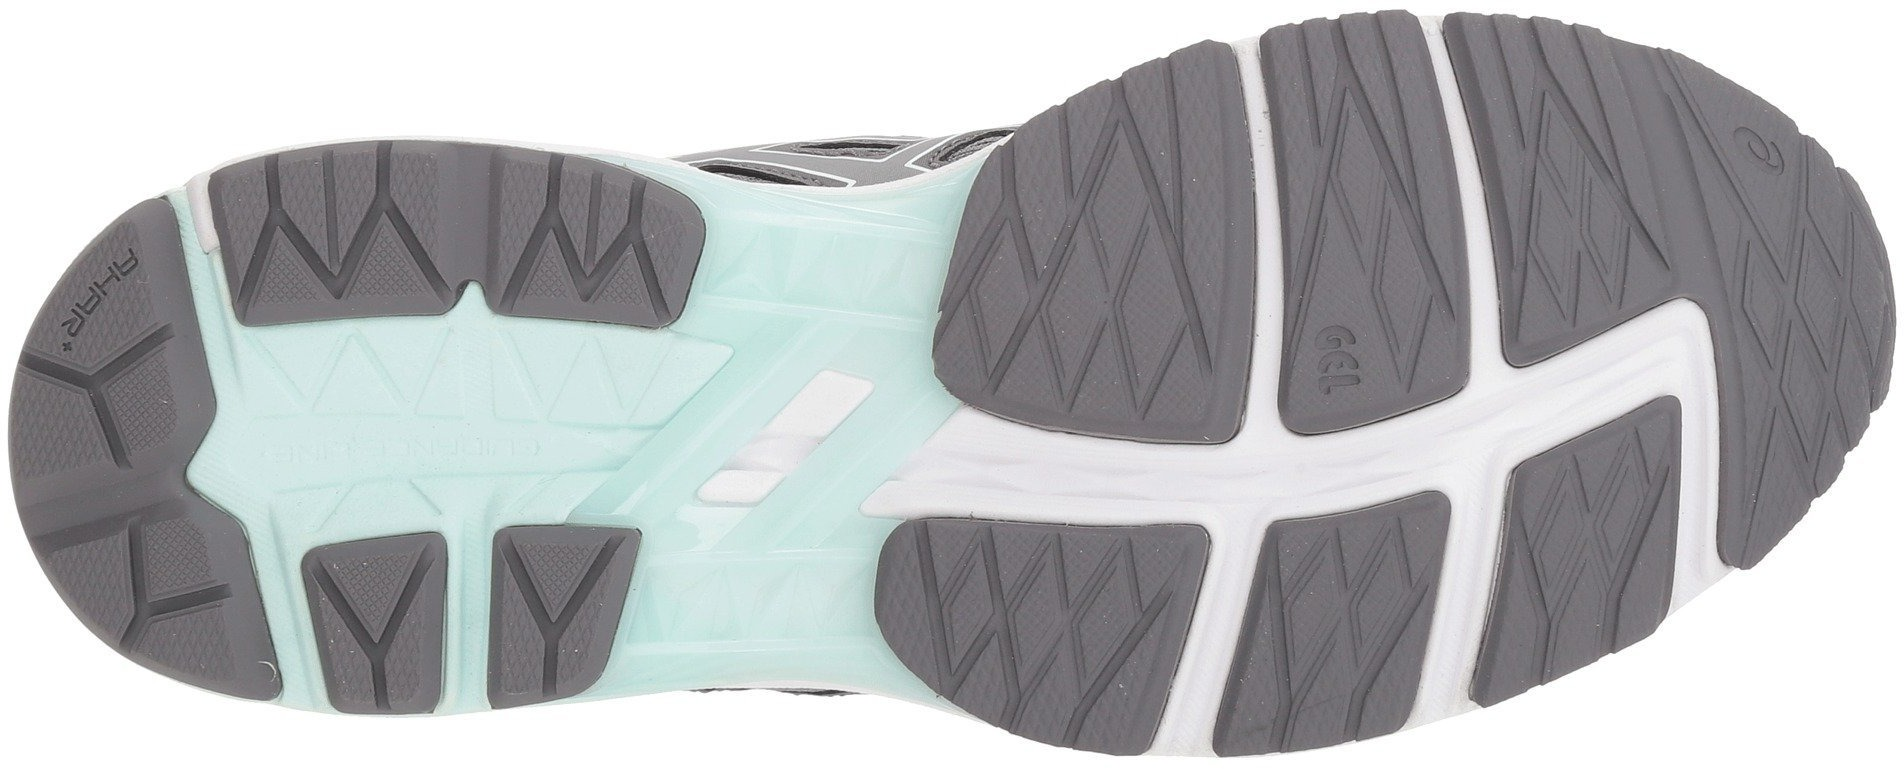exclude: (183, 1, 1065, 234), (488, 671, 1009, 767)
quad: (1209, 475, 1460, 746), (973, 156, 1231, 395), (1271, 69, 1461, 253), (1722, 245, 1889, 414)
ribbon: (634, 305, 935, 571), (276, 296, 542, 550), (1407, 343, 1564, 505), (994, 398, 1160, 550)
text: (1298, 316, 1381, 402)
